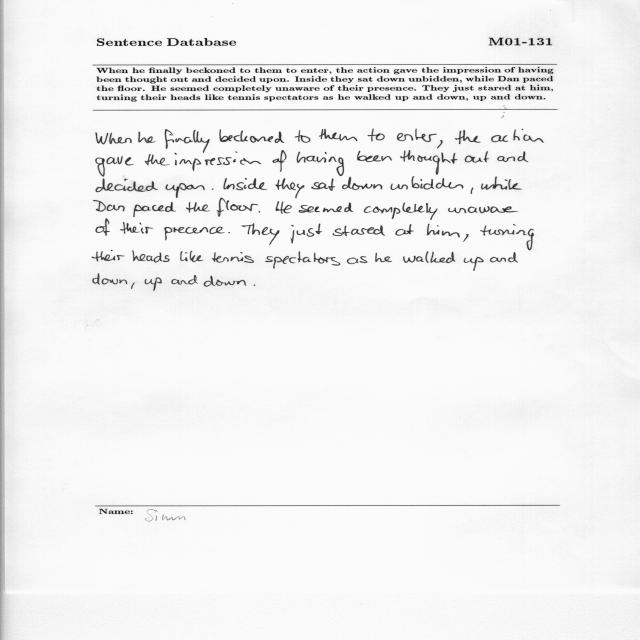word: (175, 152, 261, 172), (400, 150, 458, 175), (480, 224, 534, 250), (265, 251, 340, 269), (364, 202, 438, 220), (297, 152, 344, 176), (165, 129, 210, 153), (391, 176, 464, 190), (221, 178, 267, 198), (219, 129, 284, 143), (96, 179, 158, 193), (164, 227, 225, 241), (242, 224, 280, 246), (96, 156, 134, 176), (491, 129, 544, 143), (217, 199, 258, 217), (133, 202, 176, 217), (403, 251, 455, 263), (94, 200, 125, 220), (291, 224, 322, 244), (299, 202, 353, 213), (166, 183, 205, 198), (276, 179, 305, 199), (333, 225, 385, 236), (481, 177, 522, 190), (397, 129, 437, 142), (342, 177, 382, 190), (132, 250, 170, 263), (448, 207, 518, 214), (204, 276, 247, 287), (212, 252, 254, 263), (319, 129, 357, 141), (96, 133, 132, 145), (427, 224, 460, 237), (121, 222, 154, 234), (92, 250, 125, 262), (357, 151, 392, 162), (93, 274, 127, 285), (455, 130, 480, 144), (497, 151, 528, 162), (311, 178, 335, 191), (273, 150, 287, 172), (490, 252, 518, 263), (465, 151, 489, 163), (464, 257, 484, 271), (145, 154, 170, 165), (171, 275, 198, 285), (186, 202, 210, 213), (180, 251, 203, 262), (144, 277, 162, 291), (367, 129, 385, 142), (395, 224, 414, 236), (96, 221, 110, 236), (295, 130, 311, 143), (276, 201, 292, 214), (138, 132, 156, 143), (347, 256, 367, 264), (375, 253, 392, 262), (437, 140, 443, 149), (463, 234, 468, 242), (131, 283, 135, 289), (471, 187, 473, 194), (212, 188, 214, 190), (259, 211, 261, 213), (254, 284, 255, 286), (229, 232, 230, 233)
